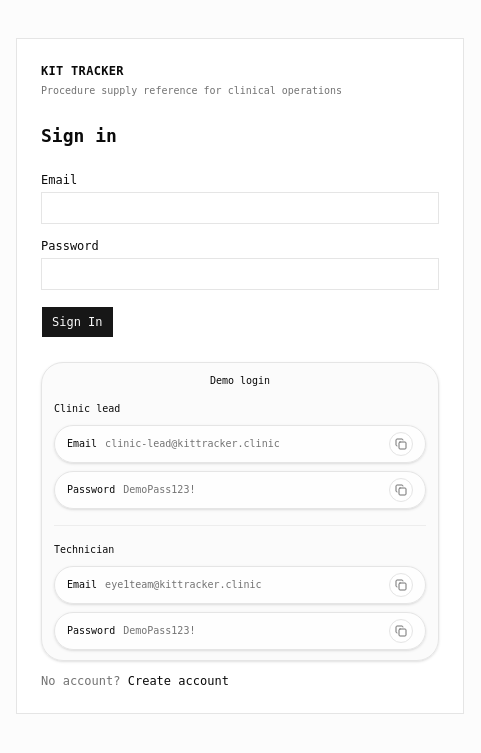
Test: Login › shows required field errors when submitted empty
Click the button "Sign In". click: (77,322)
box: [41,306,114,338]
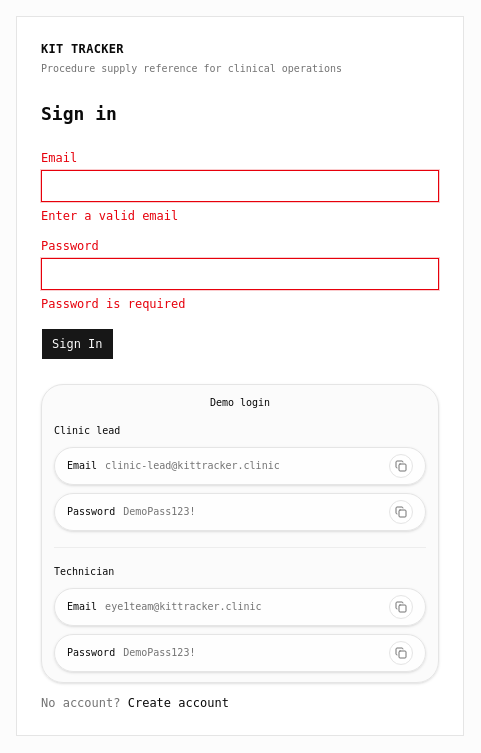
expect the text "Enter a valid email" is shown: met, box [41,209,178,223]
expect the text "Password is required" is shown: met, box [41,297,186,311]
